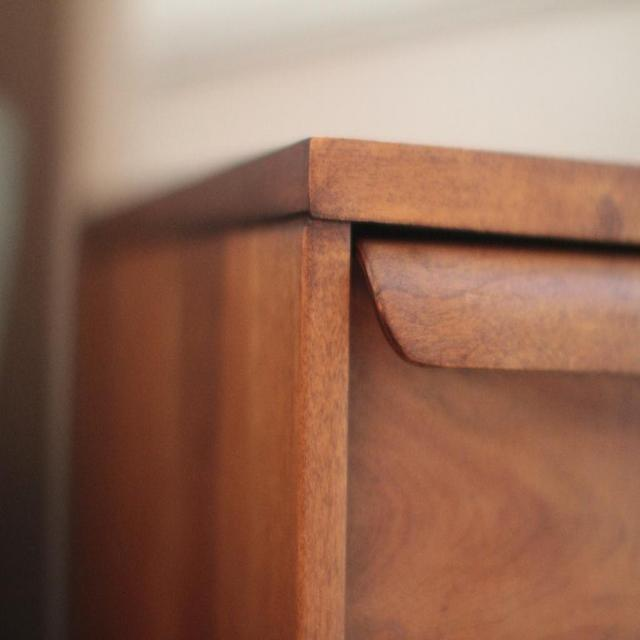table: (22, 138, 640, 634)
